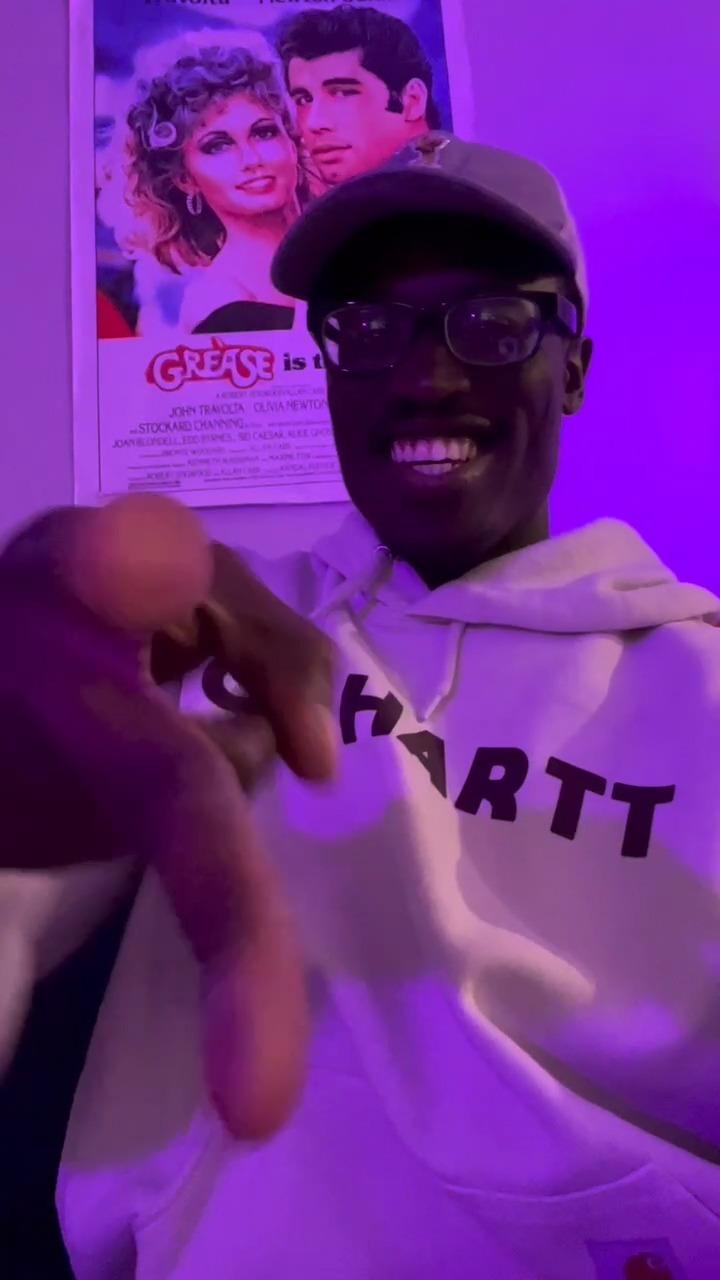Scissors: (0, 492, 351, 1154)
